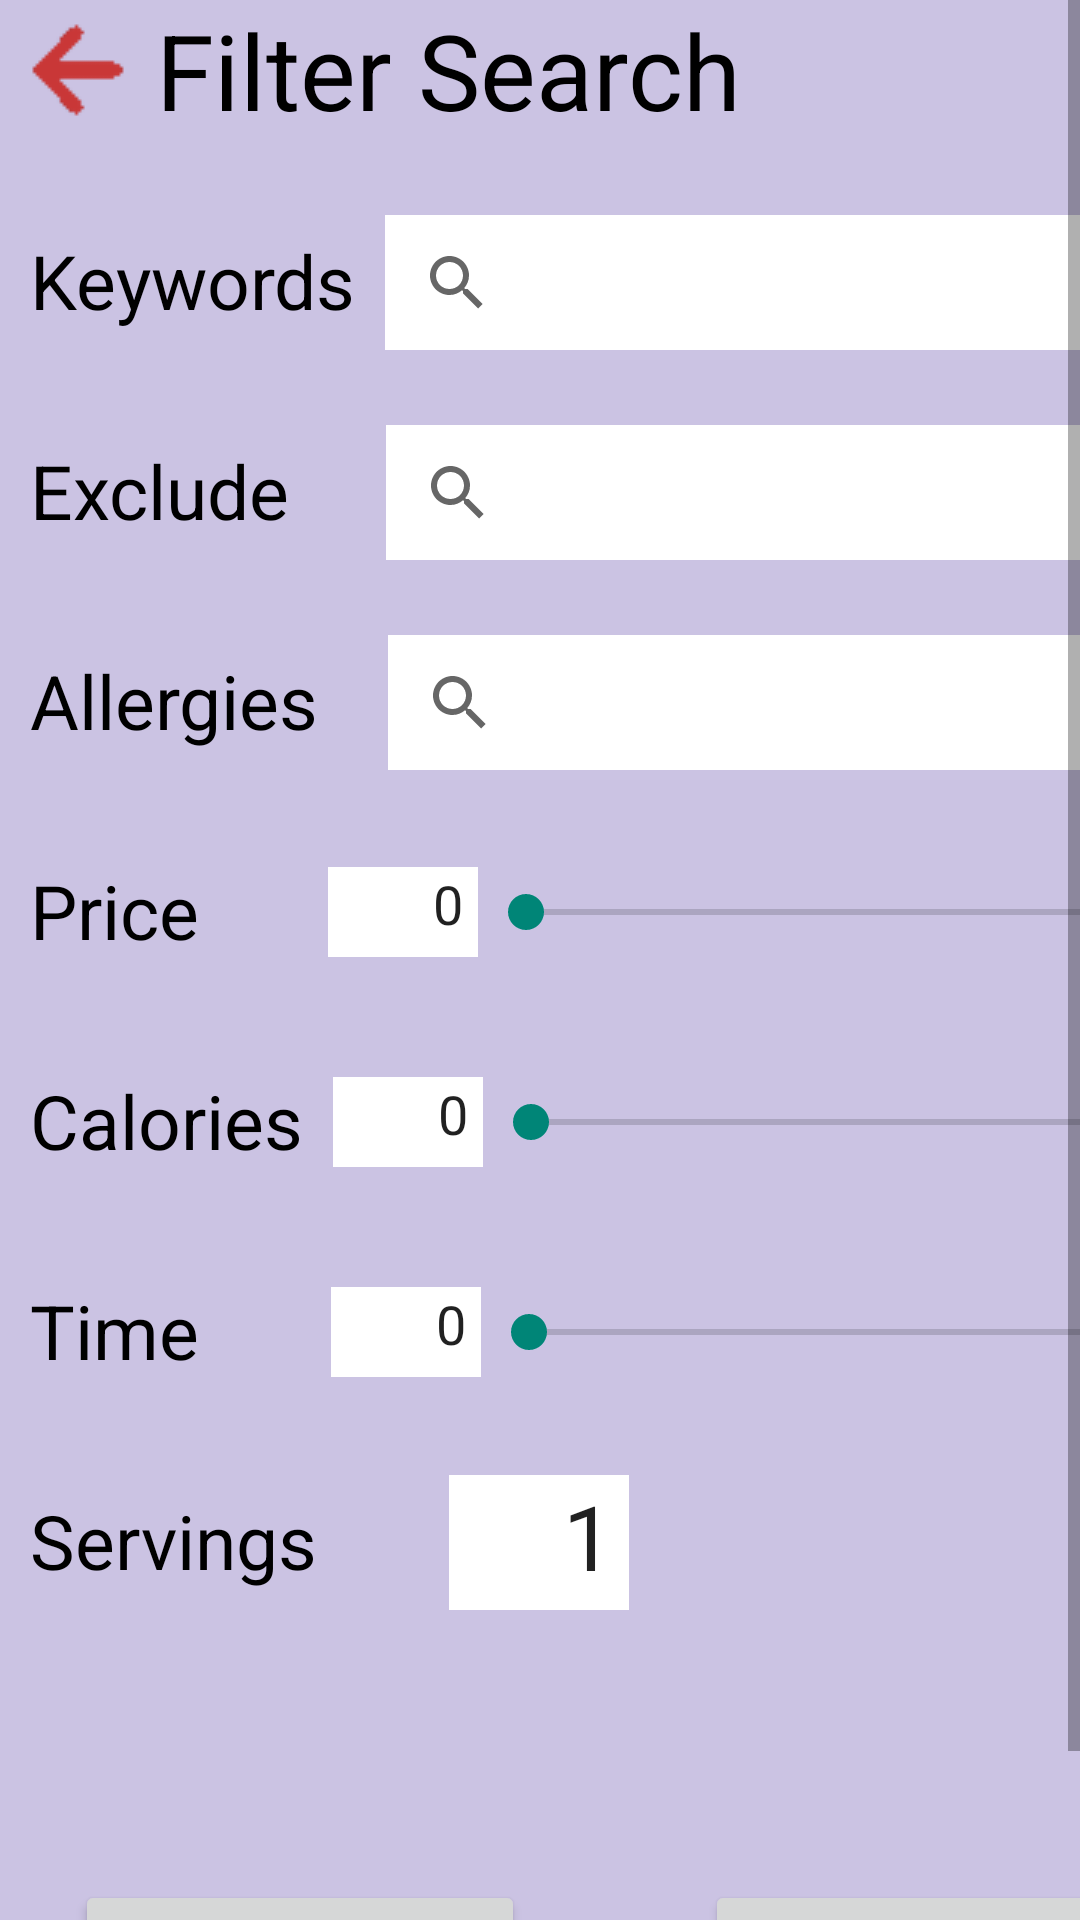

Where icons sit on this 1080x1920 app screen, as (x1, y1, x2, y2):
leftarrow: (32, 24, 124, 116)
